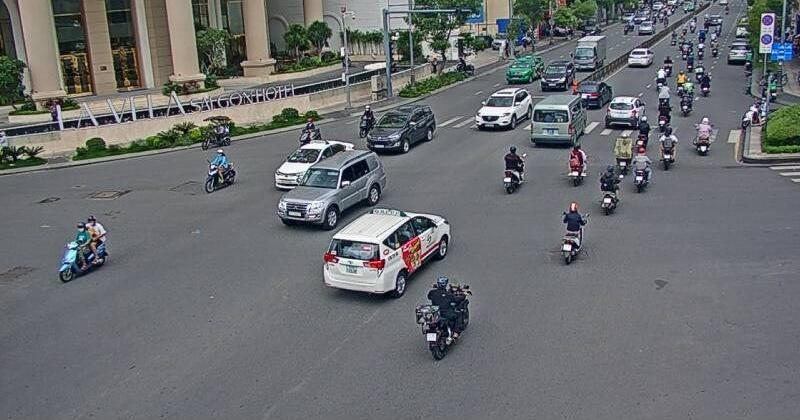xe hoi: (320, 207, 451, 299), (275, 148, 386, 230), (366, 103, 436, 155), (476, 87, 530, 130), (605, 95, 645, 129)
xe may: (417, 274, 470, 361), (55, 213, 107, 281), (556, 201, 589, 264), (596, 164, 624, 216), (204, 145, 231, 193), (501, 145, 524, 194), (630, 146, 652, 192), (567, 140, 588, 185), (657, 126, 678, 171), (692, 115, 711, 155)
xe van: (531, 94, 586, 145)
